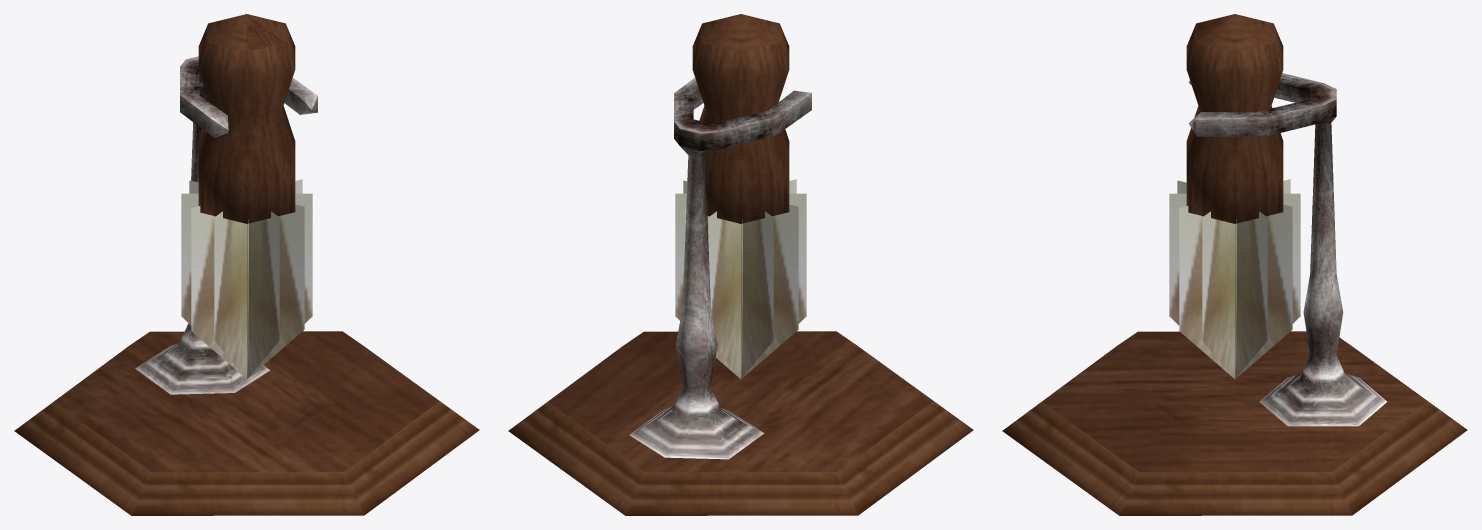
File: shop_barber_shaveBrushStand.fbx
3 renders of one model, left to right at view 1: azimuth 30°, elevation 25°; view 2: azimuth 150°, elevation 25°; view 3: azimuth 270°, elevation 25°, orthographic.
Parts seen in each view (by area): view 1: stand_base, brush_handle, stand_wire, brush_bristle02, brush_bristle06, brush_bristle05, brush_bristle04, brush_bristle03; view 2: stand_base, stand_wire, brush_handle, brush_bristle03, brush_bristle06, brush_bristle04, brush_bristle02; view 3: stand_base, stand_wire, brush_handle, brush_bristle03, brush_bristle02, brush_bristle01, brush_bristle05, brush_bristle06.
Part boxes in pixels (x1=…): stand_base: x1=14, y1=331, x2=479, y2=515; brush_handle: x1=198, y1=14, x2=295, y2=223; stand_wire: x1=135, y1=56, x2=317, y2=394; brush_bristle02: x1=214, y1=211, x2=246, y2=378; brush_bristle06: x1=247, y1=211, x2=279, y2=378; brush_bristle05: x1=189, y1=180, x2=304, y2=377; brush_bristle04: x1=191, y1=179, x2=302, y2=377; brush_bristle03: x1=181, y1=193, x2=312, y2=325; stand_base: x1=508, y1=331, x2=973, y2=515; stand_wire: x1=629, y1=77, x2=811, y2=459; brush_handle: x1=692, y1=14, x2=789, y2=223; brush_bristle03: x1=741, y1=211, x2=773, y2=378; brush_bristle06: x1=708, y1=211, x2=740, y2=378; brush_bristle04: x1=683, y1=180, x2=798, y2=377; brush_bristle02: x1=675, y1=193, x2=806, y2=323; stand_base: x1=1002, y1=331, x2=1467, y2=515; stand_wire: x1=1188, y1=73, x2=1387, y2=426; brush_handle: x1=1186, y1=14, x2=1283, y2=223; brush_bristle03: x1=1202, y1=211, x2=1234, y2=378; brush_bristle02: x1=1235, y1=211, x2=1267, y2=378; brush_bristle01: x1=1177, y1=180, x2=1292, y2=377; brush_bristle05: x1=1179, y1=179, x2=1290, y2=377; brush_bristle06: x1=1169, y1=193, x2=1300, y2=325.
Bounding box in the file's own units: 25.77 × 29.24 × 29.67.
2 materials, 2 textured.
